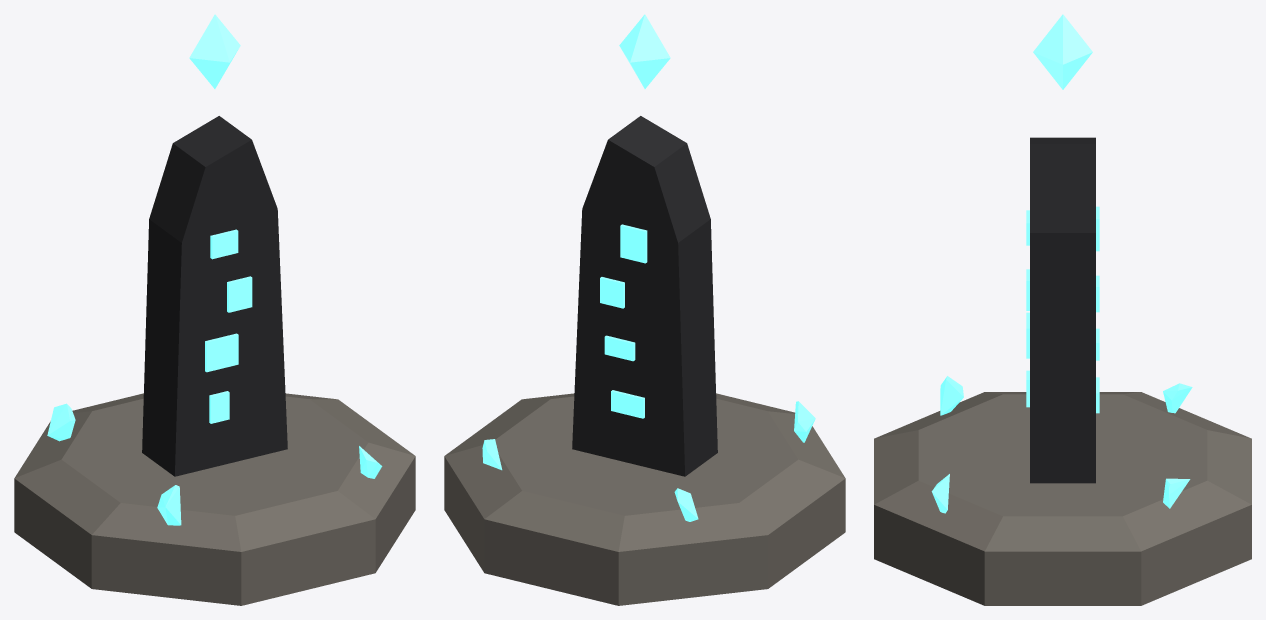
Rendered from piedra_camino.fbx.
3 renders of one model, left to right at view 1: azimuth 30°, elevation 25°; view 2: azimuth 150°, elevation 25°; view 3: azimuth 270°, elevation 25°, orthographic.
Visible parts, largest first — view 1: piedra_camino; view 2: piedra_camino; view 3: piedra_camino.
Part boxes in pixels (bbox=[...]): piedra_camino: bbox=[14, 14, 415, 605]; piedra_camino: bbox=[444, 14, 845, 605]; piedra_camino: bbox=[874, 14, 1251, 605].
Size of the model in its own units: 3.14 by 4.7 by 3.14.
